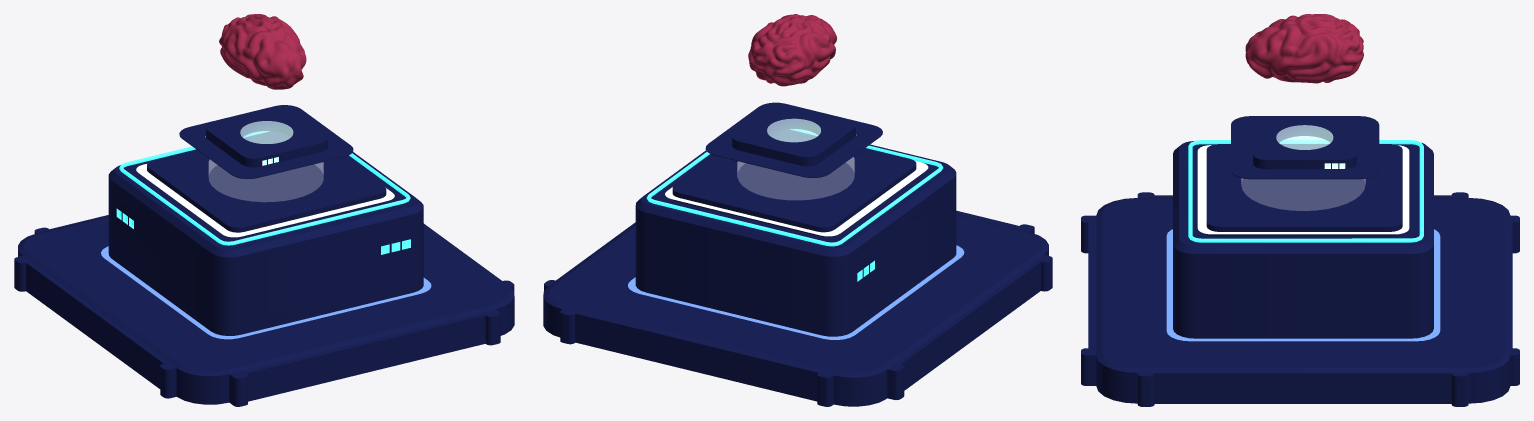
Rendered from The_mystery_cityblend45.glb.
3 renders of one model, left to right at view 1: azimuth 30°, elevation 25°; view 2: azimuth 150°, elevation 25°; view 3: azimuth 270°, elevation 25°, orthographic. The views are drawn at different scales.
Visible parts, largest first — view 1: Main_platform.001, Main_platform, Main_platform.005, Cube.001, Cube.003, Brain, Plane.004, Suppourt, Main_platform.002, Plane.002, Main_platform.007, Main_platform.008 (+2 smaller); view 2: Main_platform.001, Main_platform, Main_platform.005, Cube.002, Cube.003, Brain, Plane.004, Suppourt, Main_platform.002, Plane.002, Main_platform.008, Main_platform.007 (+2 smaller); view 3: Main_platform, Main_platform.001, Main_platform.005, Cube.004, Brain, Plane.004, Suppourt, Main_platform.002, Plane.002, Main_platform.008, Main_platform.007, Cube.001 (+3 smaller).
Boxes of the visible parts, left/top/right/bottom form: Main_platform.001: left=108, top=132, right=423, bottom=335; Main_platform: left=18, top=216, right=514, bottom=404; Main_platform.005: left=147, top=131, right=386, bottom=237; Cube.001: left=229, top=309, right=500, bottom=406; Cube.003: left=14, top=256, right=176, bottom=398; Brain: left=219, top=14, right=306, bottom=89; Plane.004: left=206, top=107, right=327, bottom=167; Suppourt: left=179, top=105, right=353, bottom=179; Main_platform.002: left=209, top=160, right=323, bottom=201; Plane.002: left=119, top=131, right=410, bottom=245; Main_platform.007: left=136, top=164, right=394, bottom=237; Main_platform.008: left=101, top=246, right=431, bottom=339; Main_platform.001: left=635, top=144, right=956, bottom=336; Main_platform: left=543, top=214, right=1048, bottom=406; Main_platform.005: left=672, top=129, right=916, bottom=236; Cube.002: left=560, top=309, right=833, bottom=406; Cube.003: left=887, top=255, right=1052, bottom=399; Brain: left=748, top=14, right=837, bottom=86; Plane.004: left=732, top=104, right=855, bottom=166; Suppourt: left=705, top=102, right=882, bottom=177; Main_platform.002: left=737, top=157, right=854, bottom=199; Plane.002: left=646, top=129, right=943, bottom=246; Main_platform.008: left=628, top=245, right=964, bottom=339; Main_platform.007: left=665, top=161, right=928, bottom=236; Main_platform: left=1096, top=198, right=1510, bottom=403; Main_platform.001: left=1173, top=141, right=1433, bottom=338; Main_platform.005: left=1206, top=144, right=1402, bottom=236; Cube.004: left=1137, top=373, right=1468, bottom=406; Brain: left=1245, top=14, right=1363, bottom=83; Plane.004: left=1253, top=116, right=1356, bottom=169; Suppourt: left=1231, top=116, right=1379, bottom=179; Main_platform.002: left=1241, top=178, right=1365, bottom=210; Plane.002: left=1188, top=140, right=1423, bottom=242; Main_platform.008: left=1166, top=229, right=1440, bottom=341; Main_platform.007: left=1197, top=145, right=1409, bottom=234; Cube.001: left=1081, top=215, right=1096, bottom=385.
Size of the model in its own units: 8.3 by 6.3 by 8.37.
